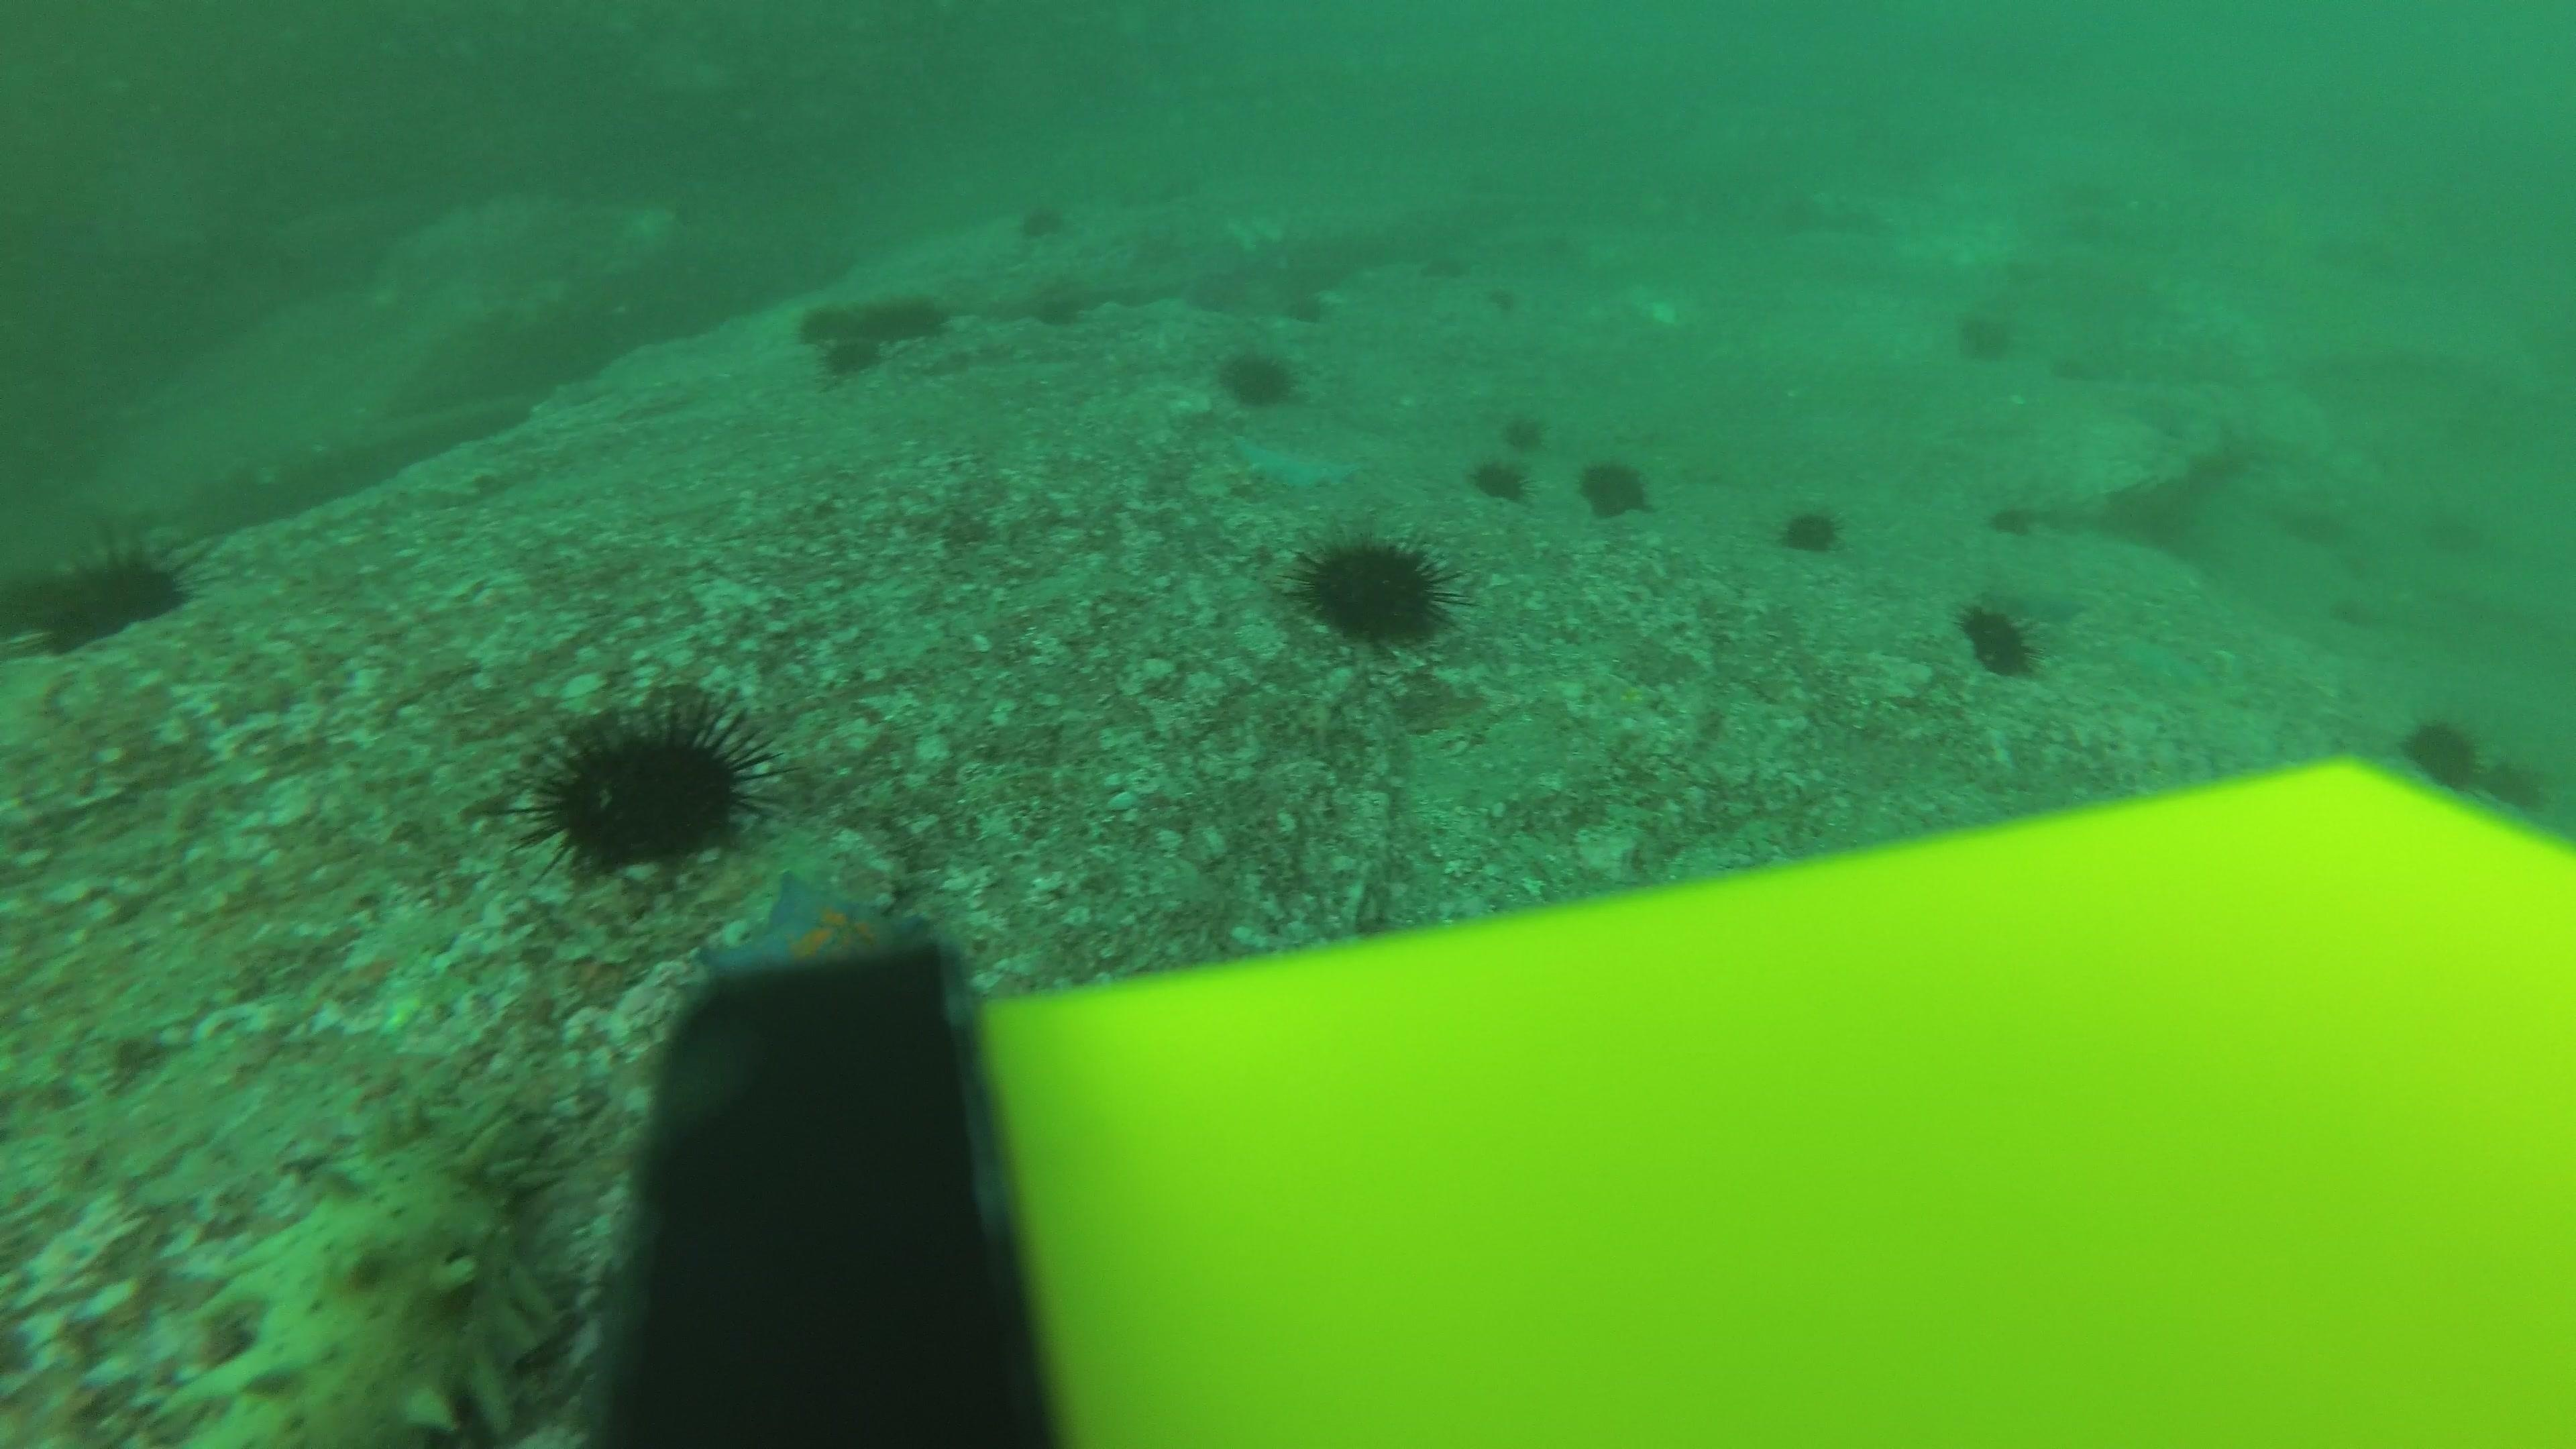echinus: (522, 692, 773, 878), (18, 534, 193, 655), (1293, 527, 1453, 651), (2394, 708, 2493, 803), (1955, 596, 2043, 679), (2484, 731, 2562, 814), (869, 280, 952, 354), (1215, 340, 1300, 410), (1576, 453, 1654, 522), (1983, 485, 2059, 554), (1950, 299, 2020, 364), (1776, 497, 1847, 557), (801, 290, 863, 356), (828, 338, 888, 393), (1468, 453, 1530, 504), (1028, 280, 1088, 327), (1281, 283, 1334, 336), (1132, 225, 1185, 278), (1499, 403, 1552, 455), (1484, 274, 1536, 327), (1419, 241, 1472, 292), (1196, 253, 1247, 304), (1016, 196, 1069, 242)
holothurian: (203, 1079, 557, 1440)
starfish: (699, 867, 938, 982), (2104, 626, 2229, 699), (1226, 430, 1362, 495), (1985, 563, 2077, 628)
